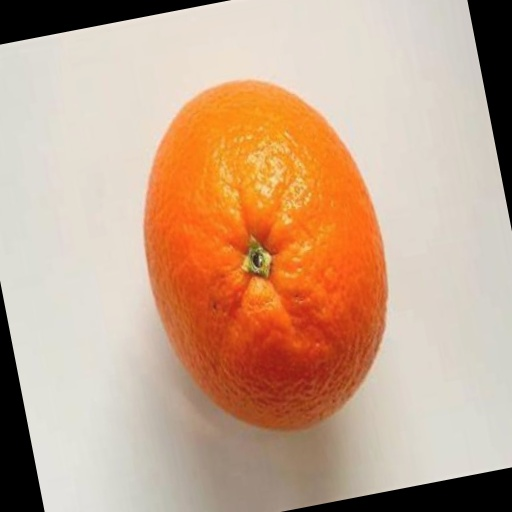fruit: (283, 121, 491, 494)
